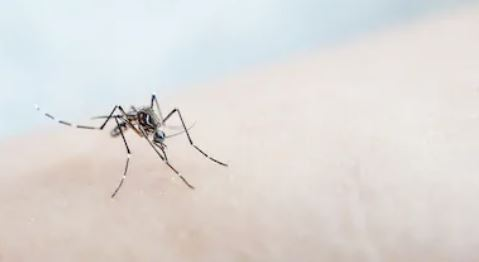dengue_mosquito: (70, 93, 199, 188)
